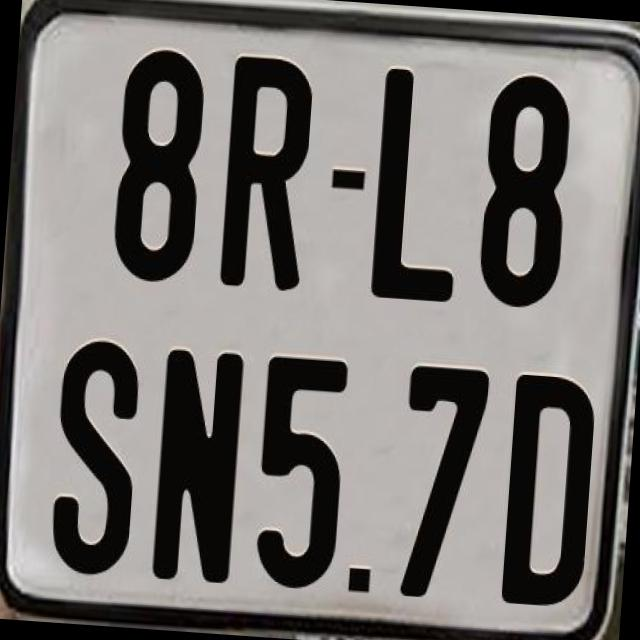5: (251, 354, 351, 590)
7: (394, 360, 492, 605)
8: (105, 46, 204, 290), (476, 68, 574, 314)
D: (496, 374, 600, 616)
L: (367, 68, 472, 312)
N: (150, 348, 248, 590)
R: (217, 56, 319, 292)
S: (46, 334, 146, 581)
